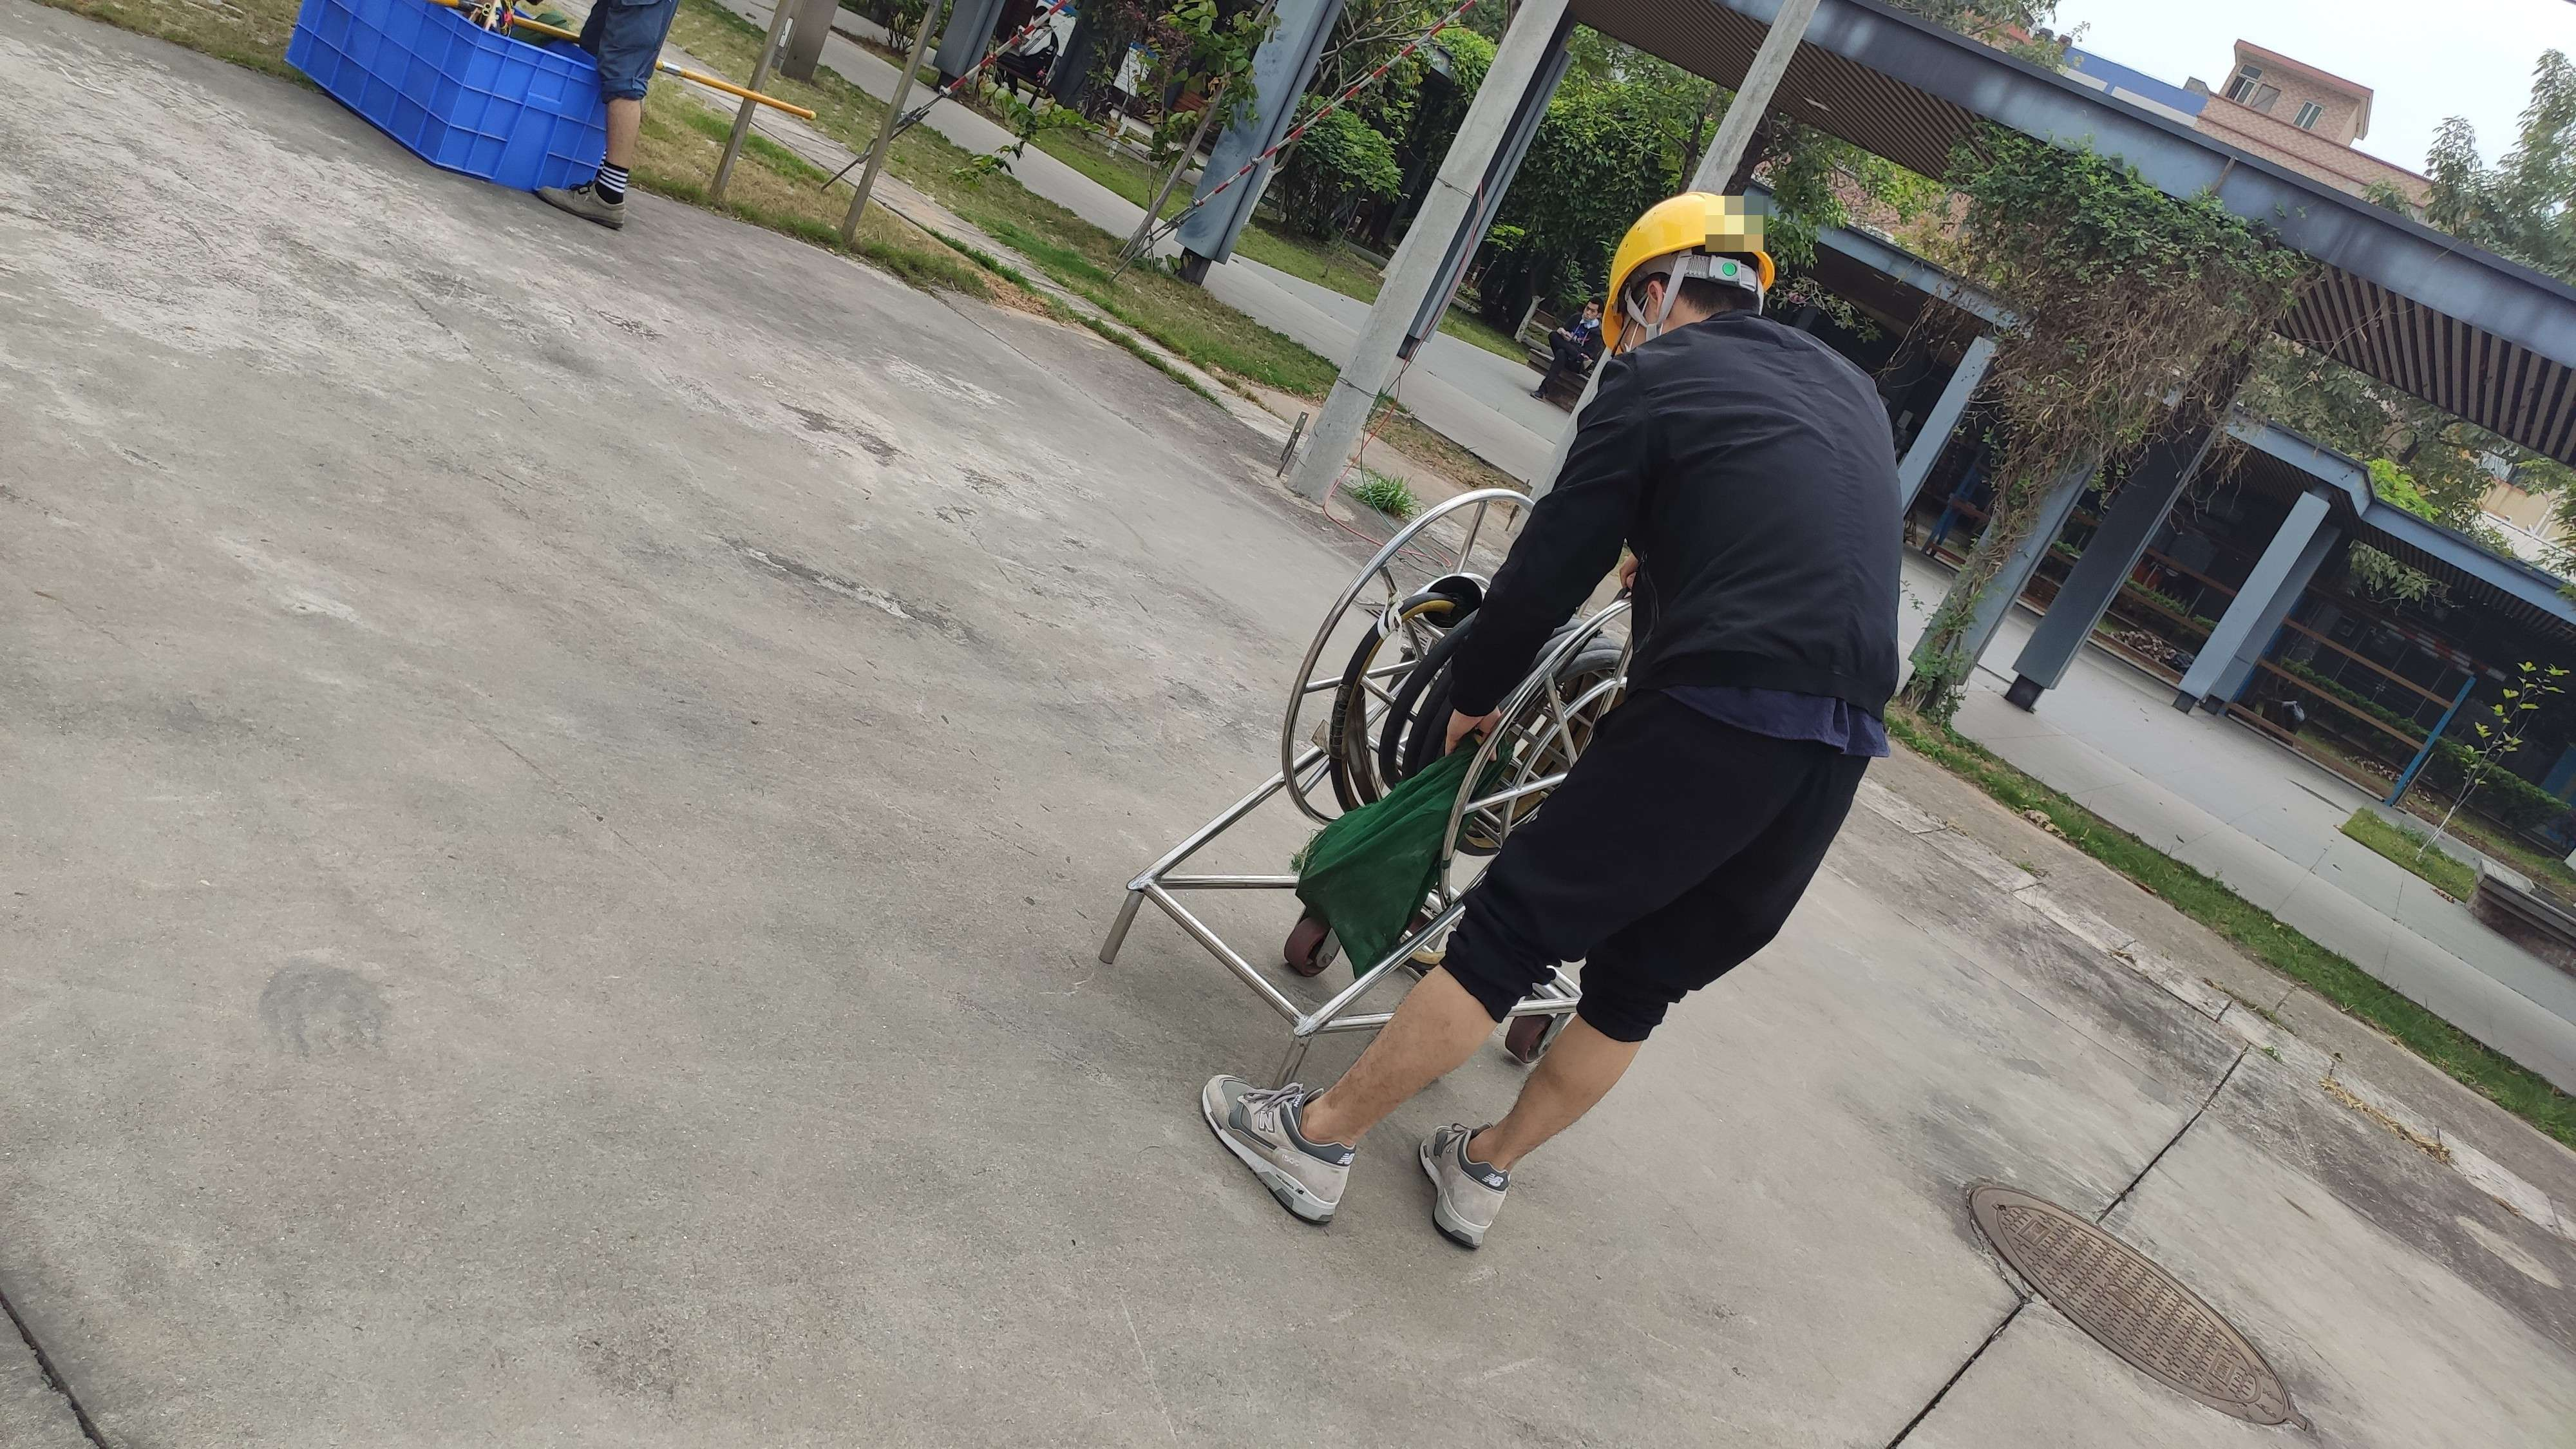downcloth: (1486, 732, 1859, 1062)
upcloth: (1461, 322, 1905, 720)
wrongbottom: (1290, 918, 1614, 1164)
